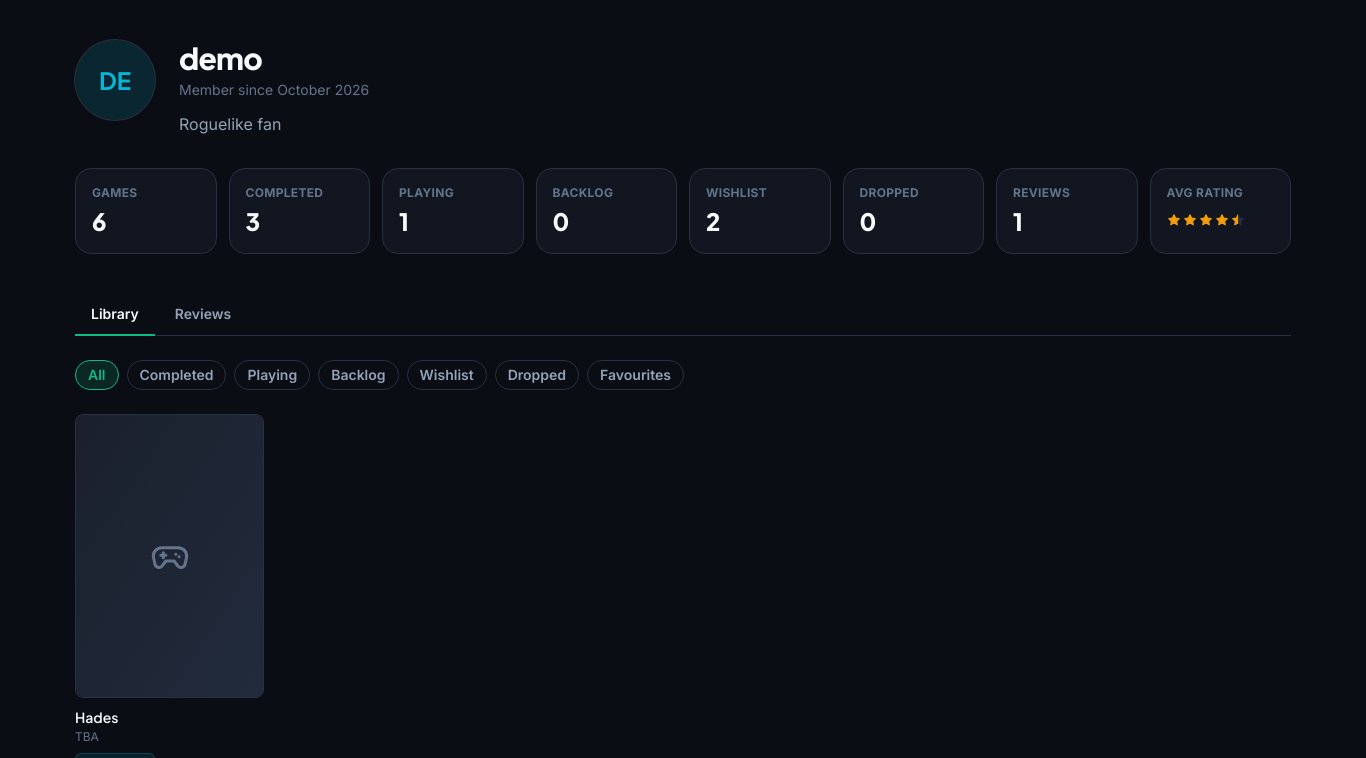
it: ProfileView › switches to the reviews tab
The image size is (1366, 758).
Click the button with test id "tab-reviews".
click(203, 315)  # box [159, 294, 247, 336]
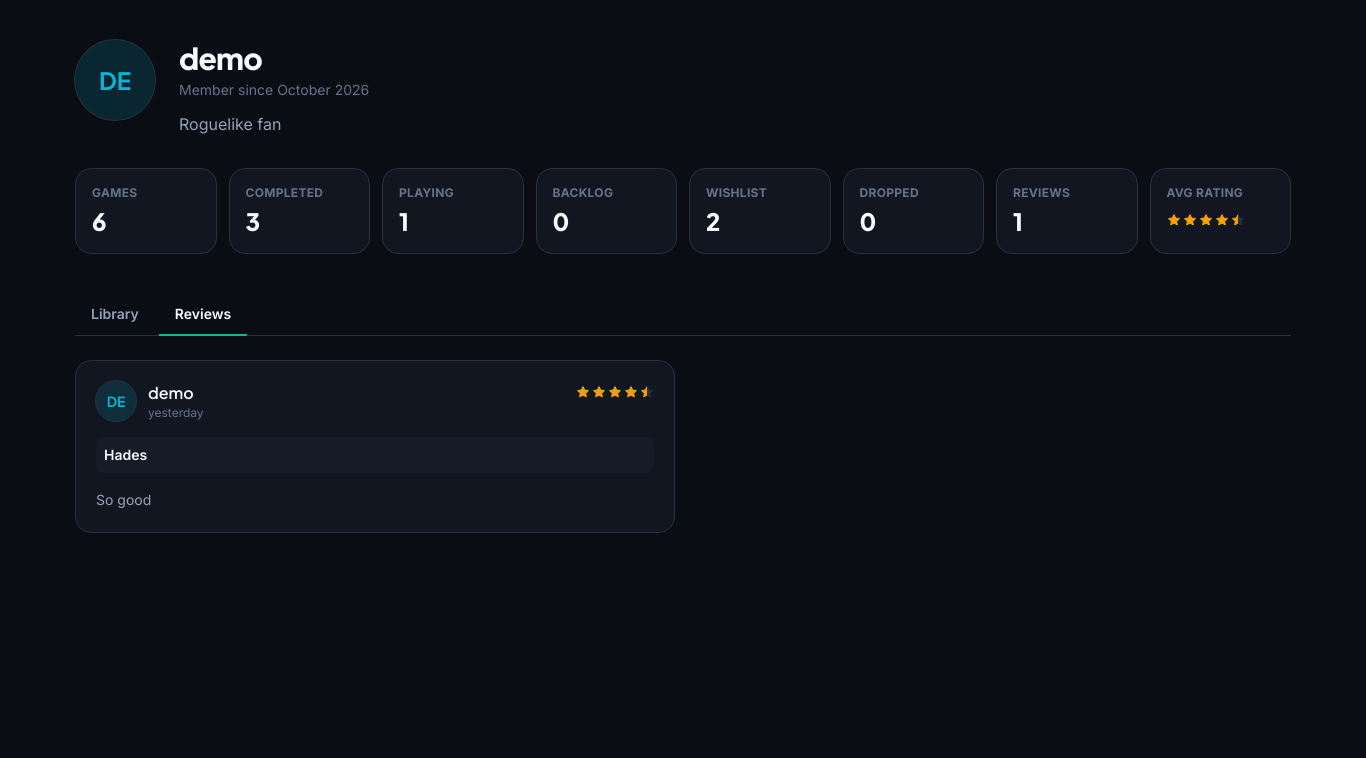
Check: the element with test id "reviews" shows "So good", box [96, 491, 151, 508]
